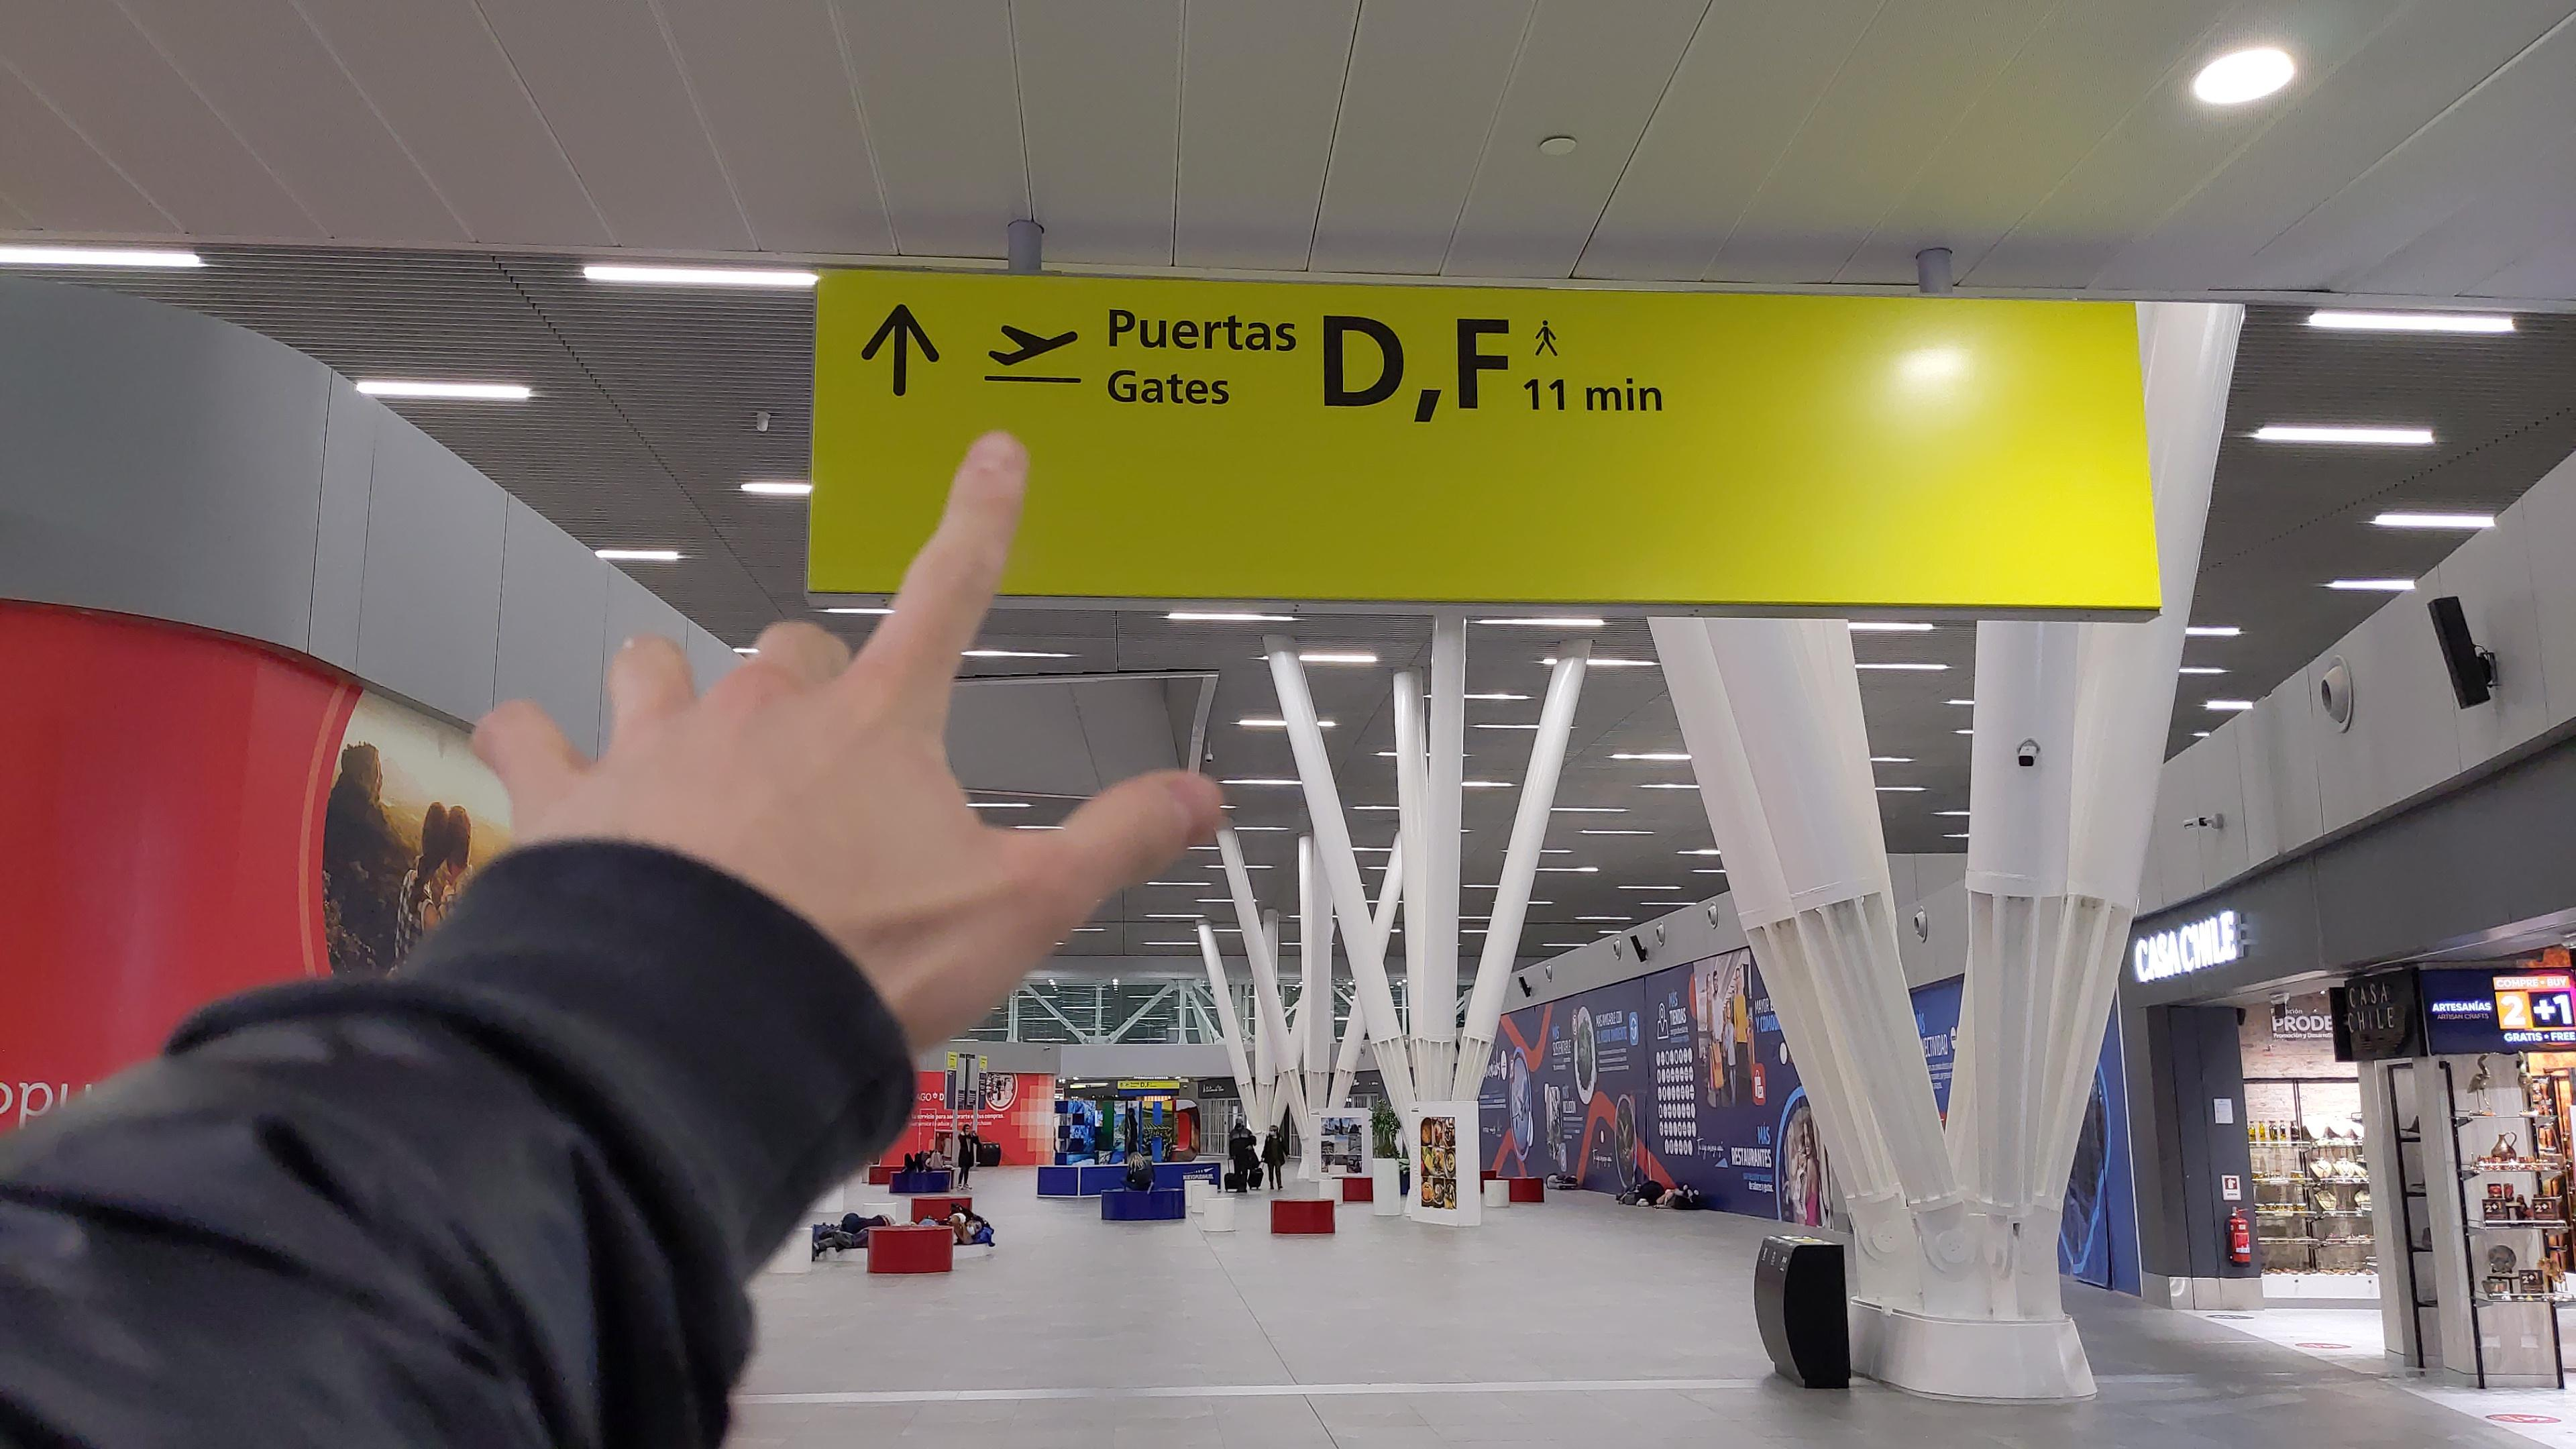airplane symbol: (987, 318, 1081, 372)
thin up arrow: (860, 301, 943, 402)
